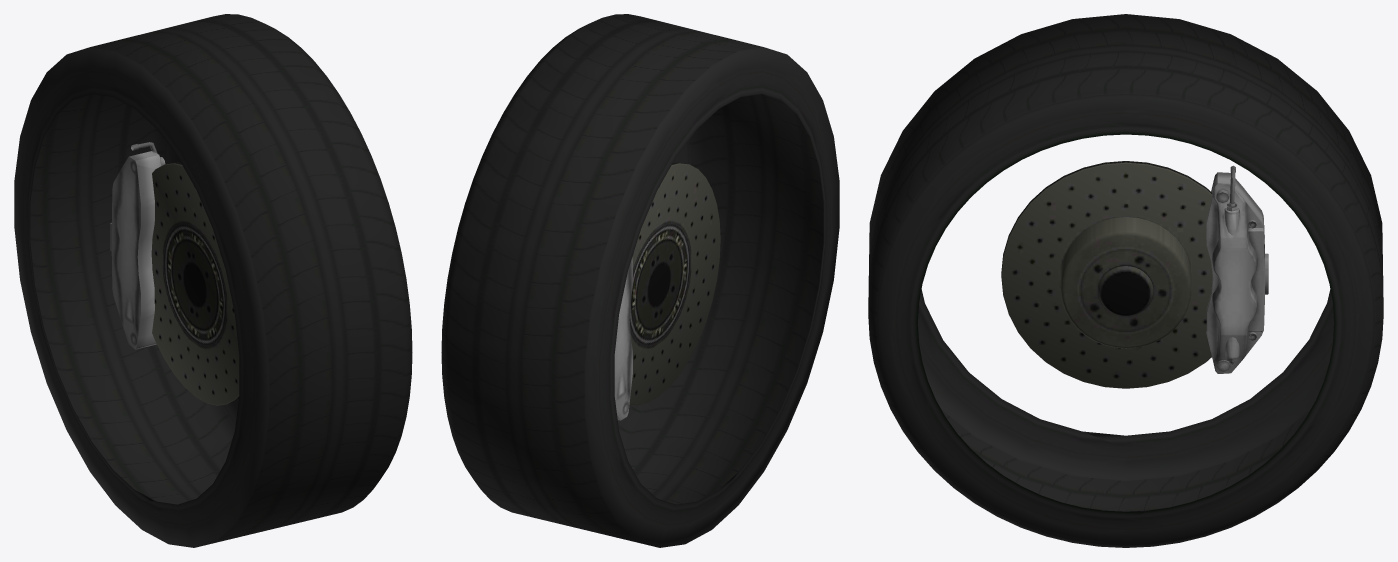
Rendered from 20inches.fbx.
3 renders of one model, left to right at view 1: azimuth 30°, elevation 25°; view 2: azimuth 150°, elevation 25°; view 3: azimuth 270°, elevation 25°, orthographic.
Visible parts, largest first — view 1: 20inches, disk, brake_disk; view 2: 20inches, disk, brake_disk; view 3: 20inches, disk, brake_disk.
Part boxes in pixels (left/top/right/bottom): 20inches: left=14, top=14, right=412, bottom=547; disk: left=151, top=162, right=239, bottom=405; brake_disk: left=110, top=142, right=165, bottom=349; 20inches: left=441, top=14, right=839, bottom=547; disk: left=629, top=162, right=720, bottom=405; brake_disk: left=614, top=258, right=632, bottom=420; 20inches: left=868, top=14, right=1383, bottom=547; disk: left=1001, top=161, right=1212, bottom=388; brake_disk: left=1206, top=165, right=1268, bottom=373.
Bounding box in the file's own units: 0.2248 × 0.6198 × 0.6198.
